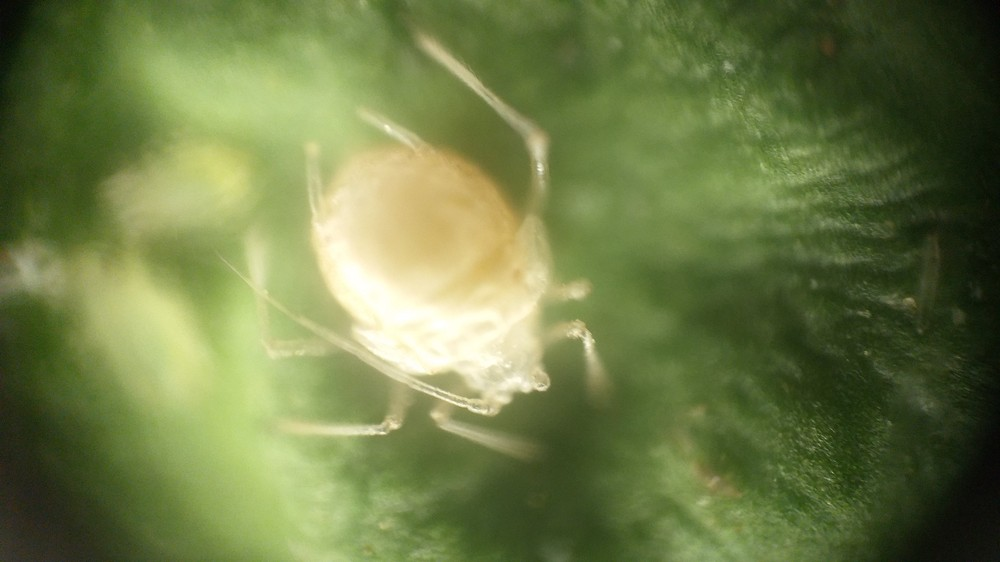Pulgon: (227, 45, 649, 486)
